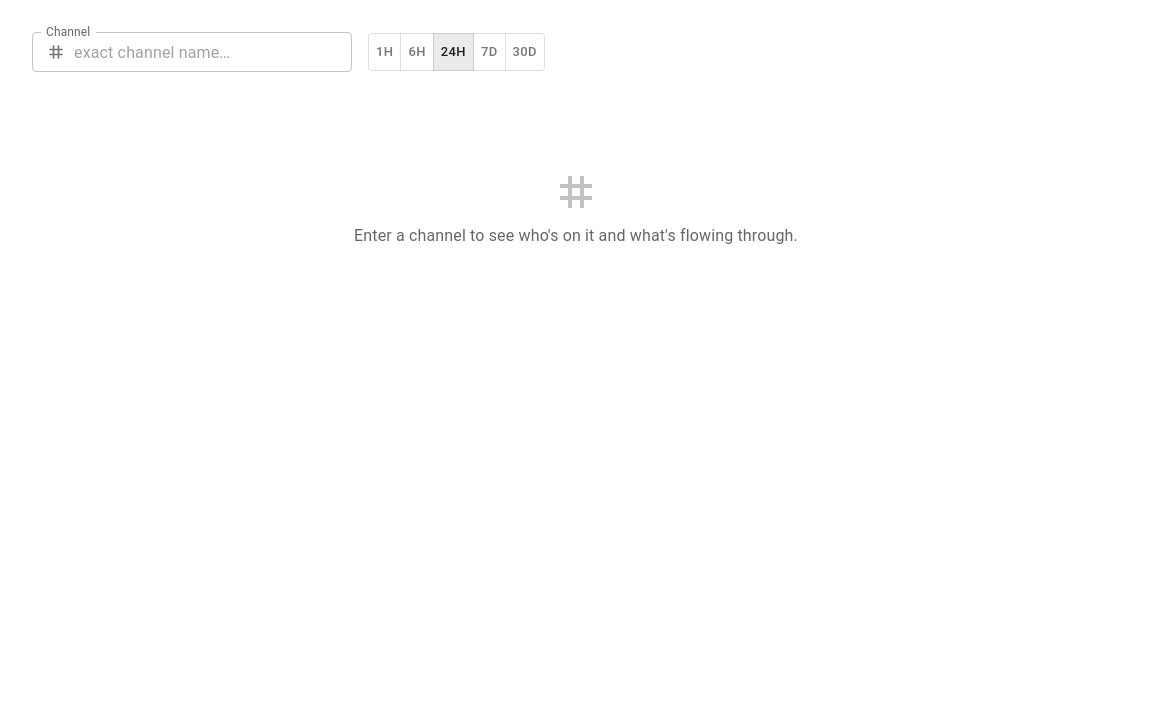
Test case: ChannelExplorer › a slow, stale response does not overwrite a newer lookup
In the field labelled "Channel": (213, 52) x1=74 y1=32 x2=352 y2=72, type "chan-a"
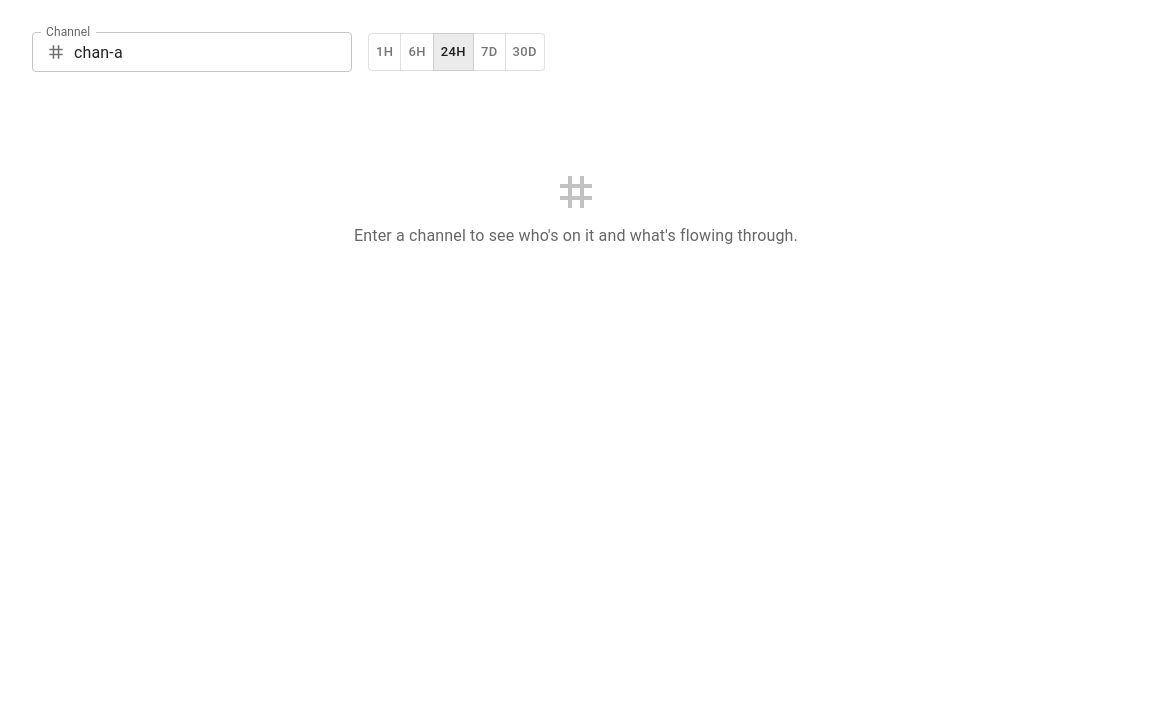
Press Enter in the field labelled "Channel", box x1=74 y1=32 x2=352 y2=72
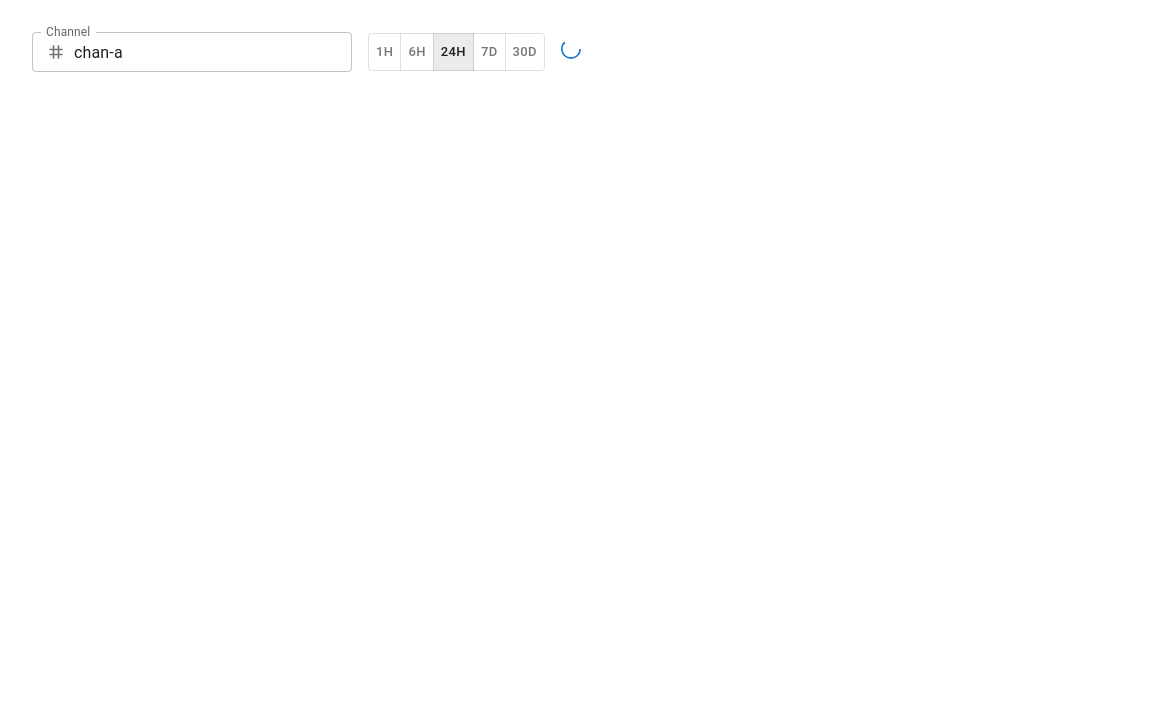
Replace the text in the field labelled "Channel" with "chan-b": (213, 52) x1=74 y1=32 x2=352 y2=72
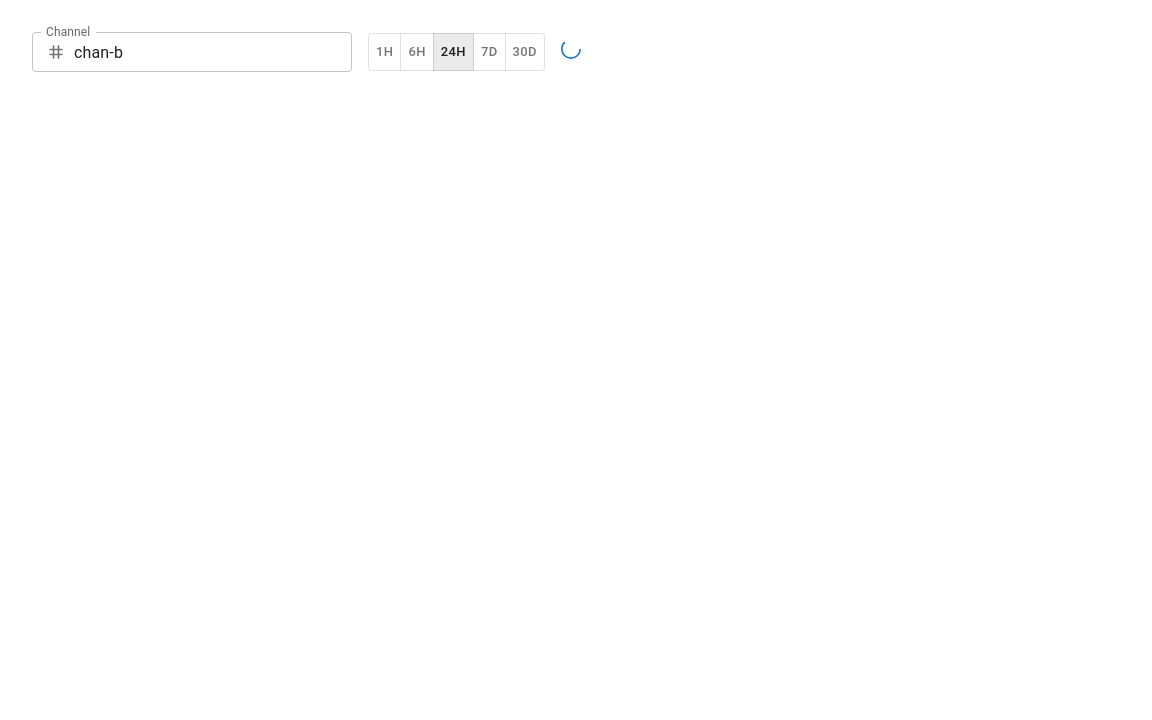
Press Enter in the field labelled "Channel", box x1=74 y1=32 x2=352 y2=72
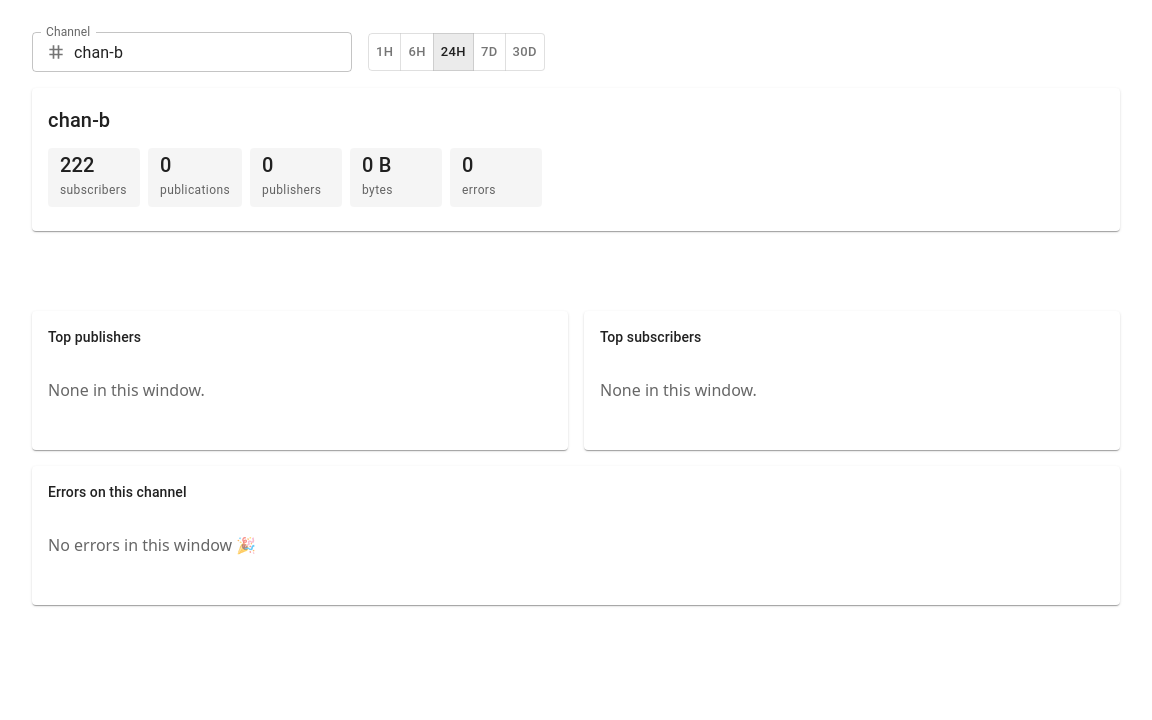
expect the heading "222" is shown: met, box x1=60 y1=153 x2=95 y2=177
